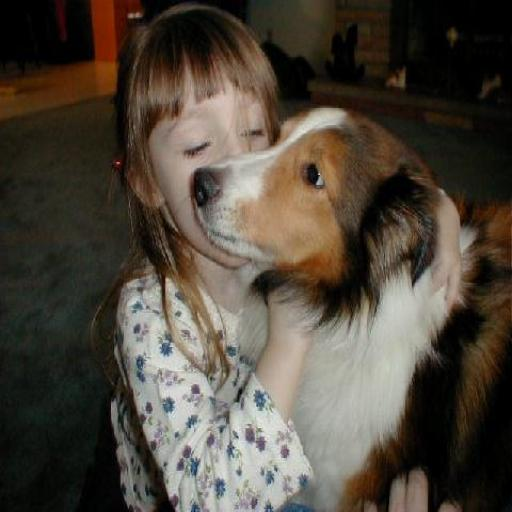dog_face: (193, 89, 435, 306)
